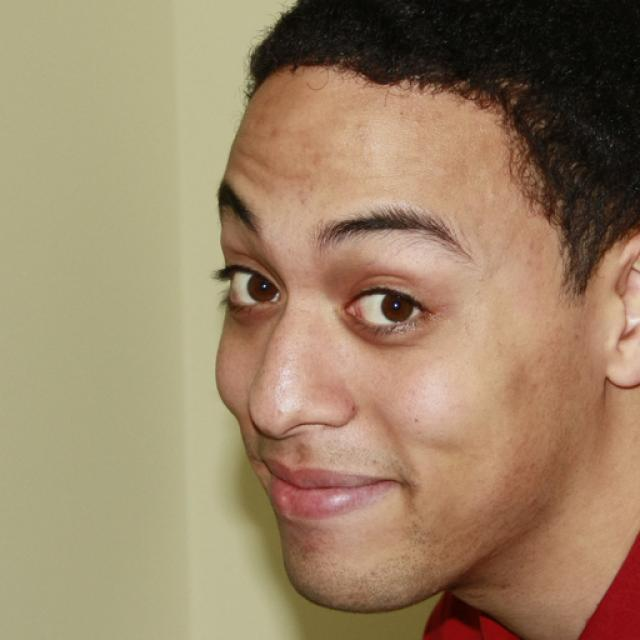0_rostro_limpio: (214, 0, 640, 614)
